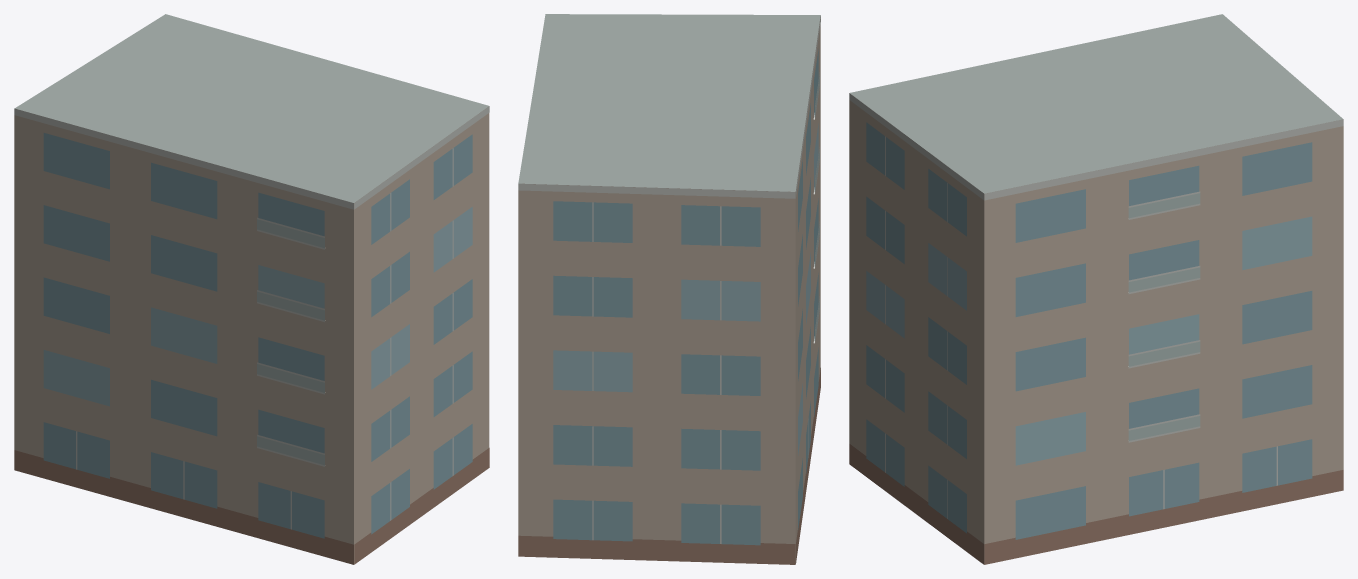
File: survey-upis-32740888.glb
3 renders of one model, left to right at view 1: azimuth 30°, elevation 25°; view 2: azimuth 150°, elevation 25°; view 3: azimuth 270°, elevation 25°, orthographic. The views are drawn at different scales.
Parts seen in each view (by area): view 1: survey-upis-32740888.tmp; view 2: survey-upis-32740888.tmp; view 3: survey-upis-32740888.tmp.
Boxes of the visible parts, box(x1,y1,x2,y2) form: survey-upis-32740888.tmp: box(14, 14, 489, 564); survey-upis-32740888.tmp: box(518, 14, 820, 564); survey-upis-32740888.tmp: box(849, 14, 1343, 564).
Size of the model in its own units: 13.77 by 13.25 by 16.
